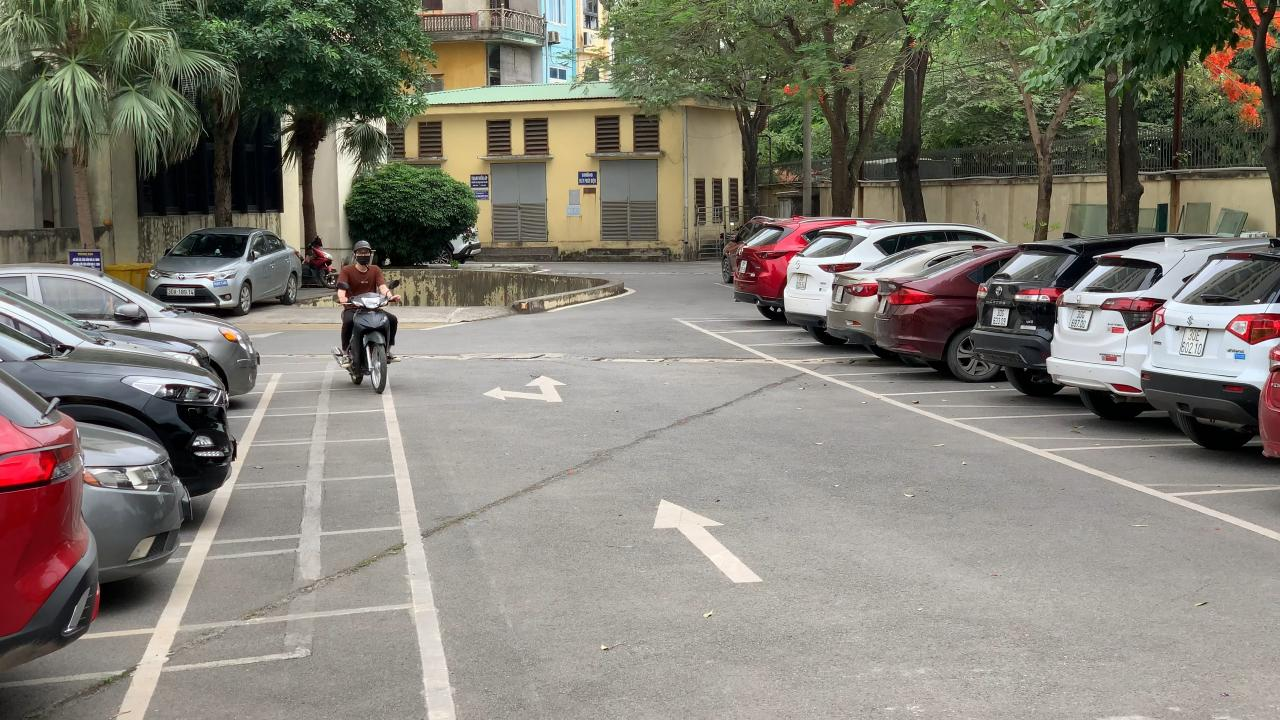helmet: (352, 241, 372, 253)
motorcyclist: (330, 241, 402, 395)
